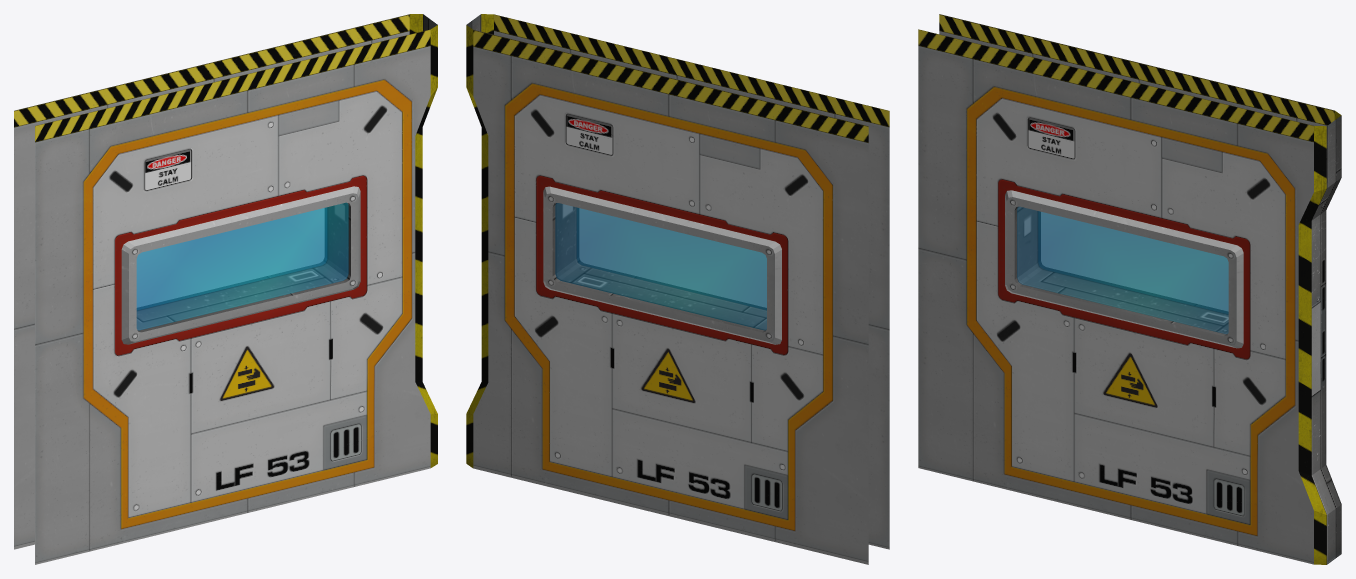
File: DoorMovable_Long_01.FBX
3 renders of one model, left to right at view 1: azimuth 30°, elevation 25°; view 2: azimuth 150°, elevation 25°; view 3: azimuth 330°, elevation 25°, orthographic.
Visible parts, largest first — view 1: DoorMovable_Long_01; view 2: DoorMovable_Long_01; view 3: DoorMovable_Long_01.
Boxes of the visible parts, x1,y1,x2,y2 form: DoorMovable_Long_01: (14, 14, 437, 564); DoorMovable_Long_01: (466, 14, 889, 564); DoorMovable_Long_01: (918, 14, 1341, 564).
Size of the model in its own units: 117 by 121 by 13.14.
